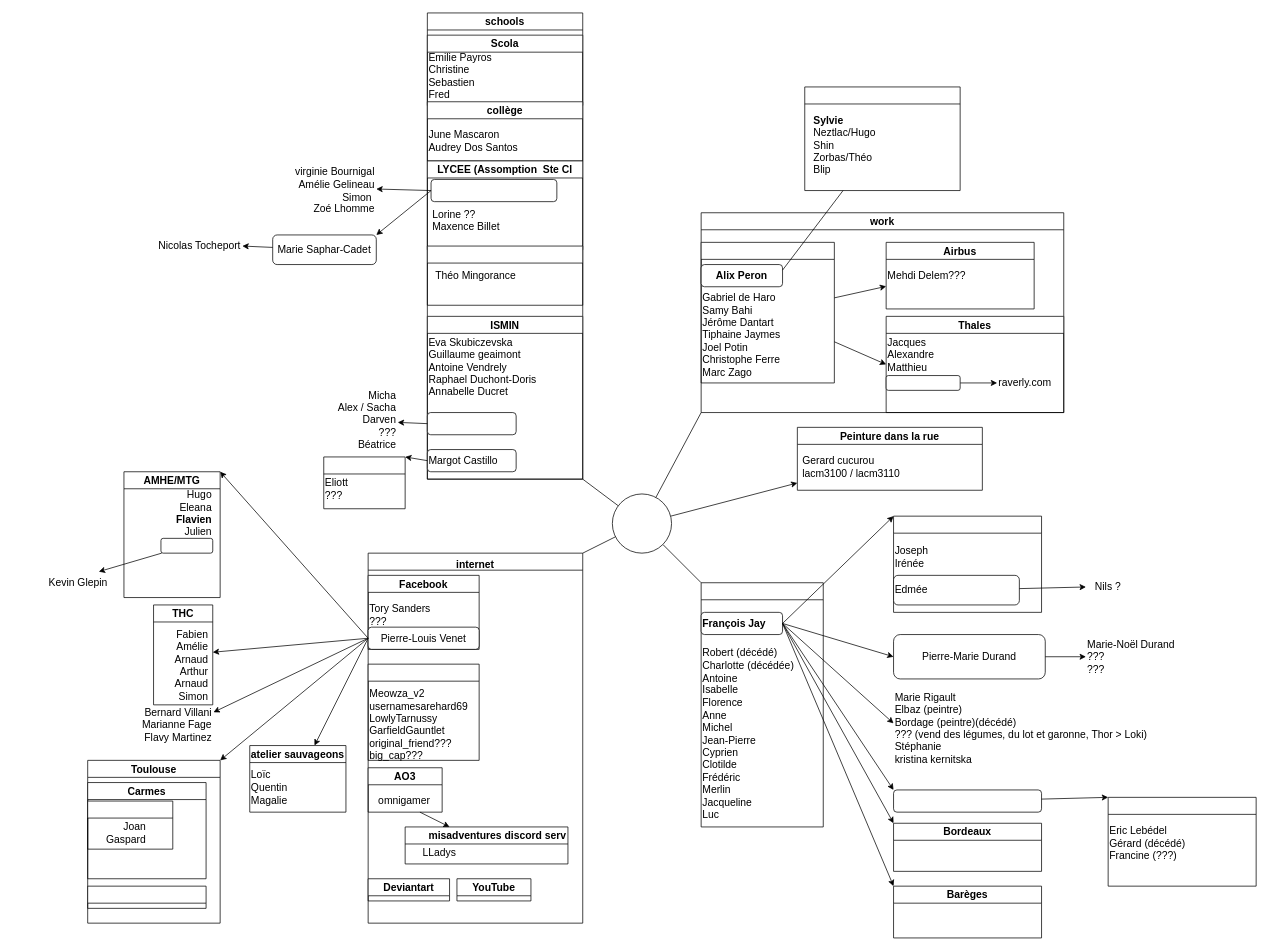
The diagram is 1269 pixels wide and 951 high, and some of its shapes have lost their labels. The box of each missing label's shape, as (x1, y1, x2, y2) in pixels:
Amandine: (885, 375, 960, 390)
Hélène Lebédel (dead to me): (893, 789, 1042, 812)
Jay family: (700, 582, 823, 827)
lebedel family: (1107, 797, 1256, 886)
Martre family: (893, 515, 1042, 612)
pride Marseille: (323, 456, 405, 509)
prépa grand lebrun: (427, 245, 583, 305)
reddit: (367, 663, 479, 760)
Robin Thomasson: (430, 179, 557, 202)
Salmanazar: (87, 800, 173, 849)
SII: (700, 242, 834, 383)
Solenn: (160, 538, 213, 553)
St Michel: (87, 885, 206, 908)
Telegram / Toulouse furries: (804, 86, 960, 191)
Youen Froger: (427, 412, 516, 435)
